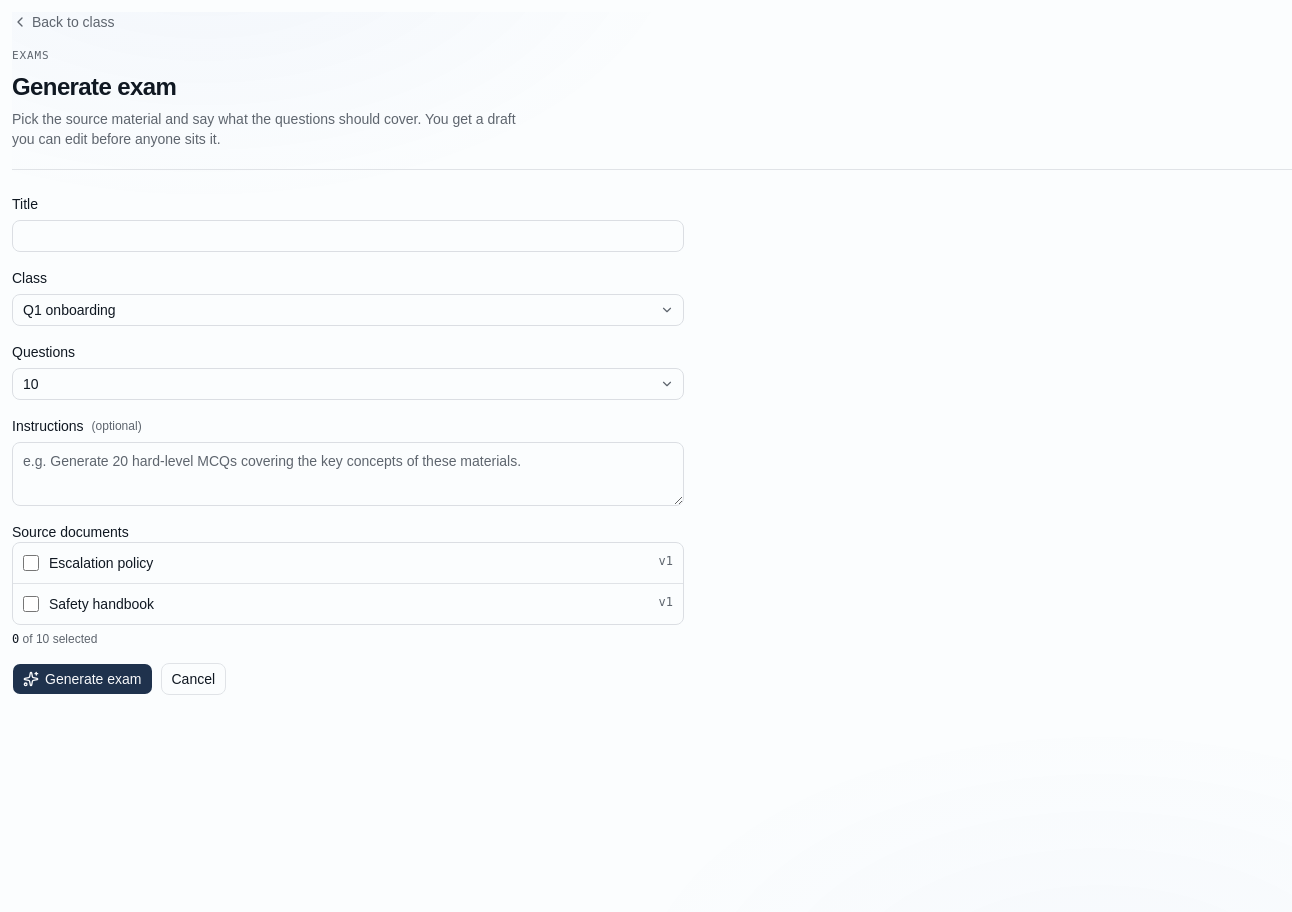
Scenario: GenerateExamPage › rejects a custom count the server would reject
Expected: the checkbox labelled "Escalation policy" is shown, [23,554,39,570]
Type "Week 1 check" into the field labelled "Title".
click(348, 236); type("Week 1 check")  # box [12,220,684,252]
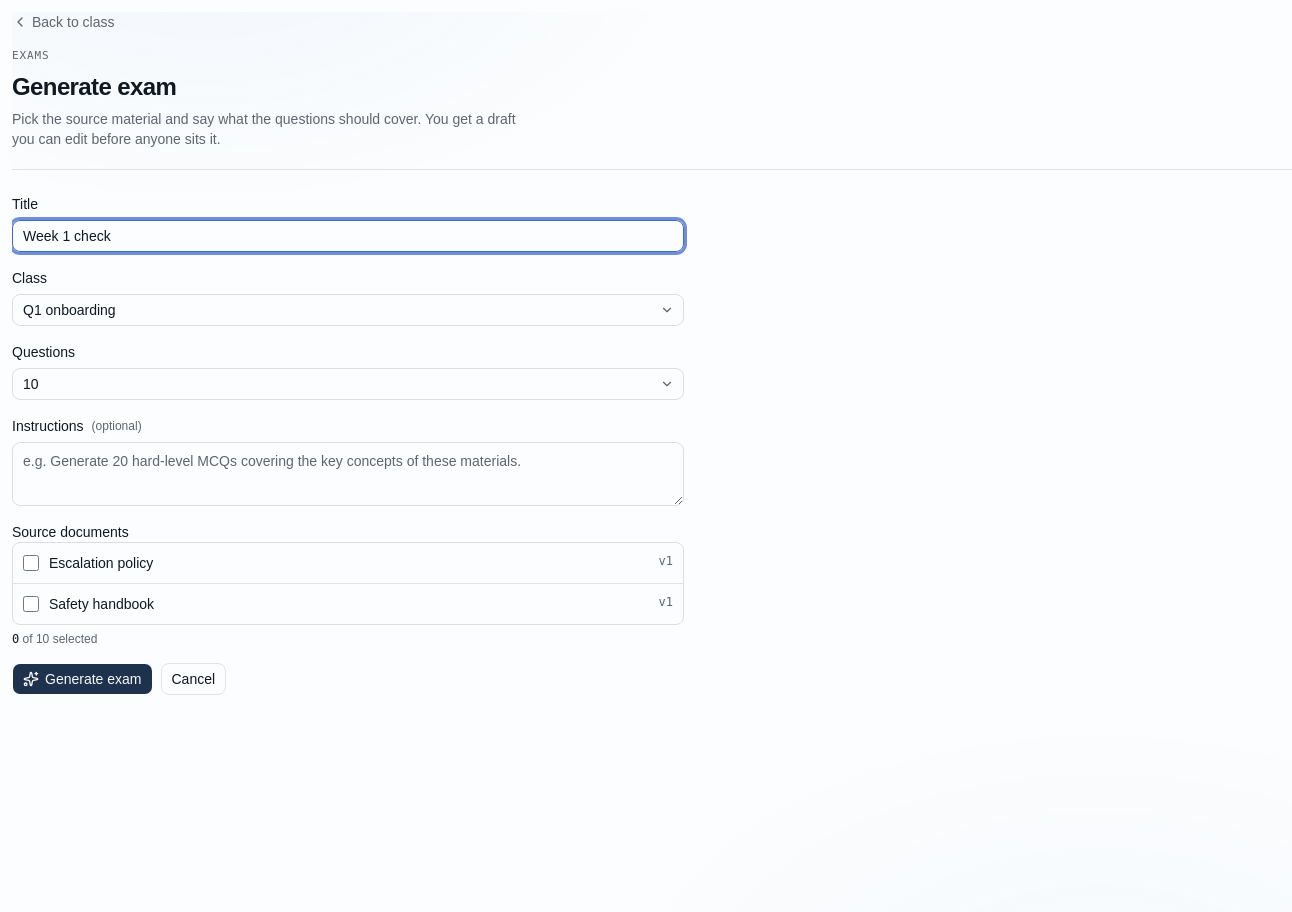
Click the checkbox labelled "Escalation policy".
click(31, 562)  # box [23,554,39,570]
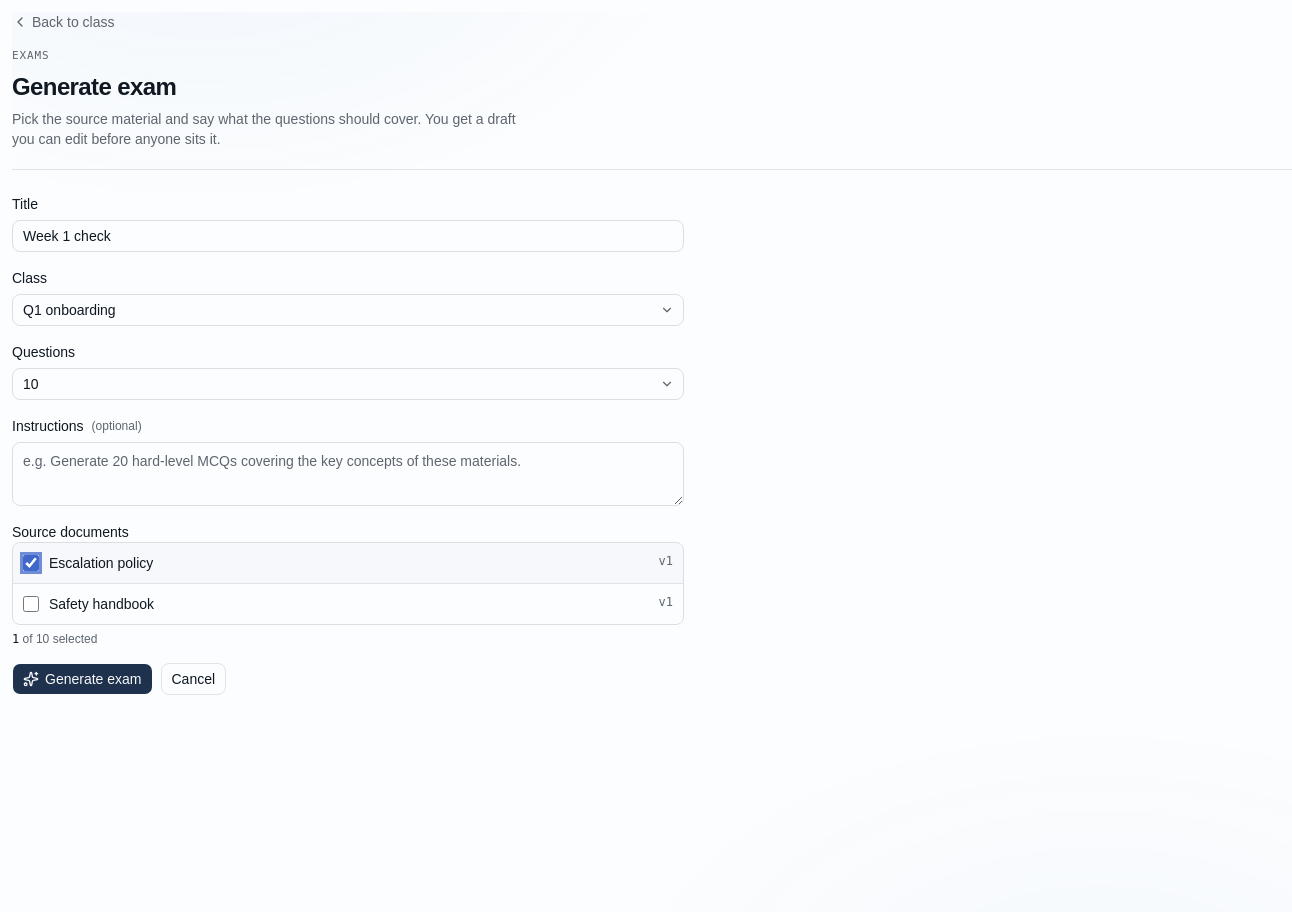
Type "Cover the sign-offs." into the text box labelled "Instructions (optional)".
click(348, 474); type("Cover the sign-offs.")  # box [12,442,684,506]
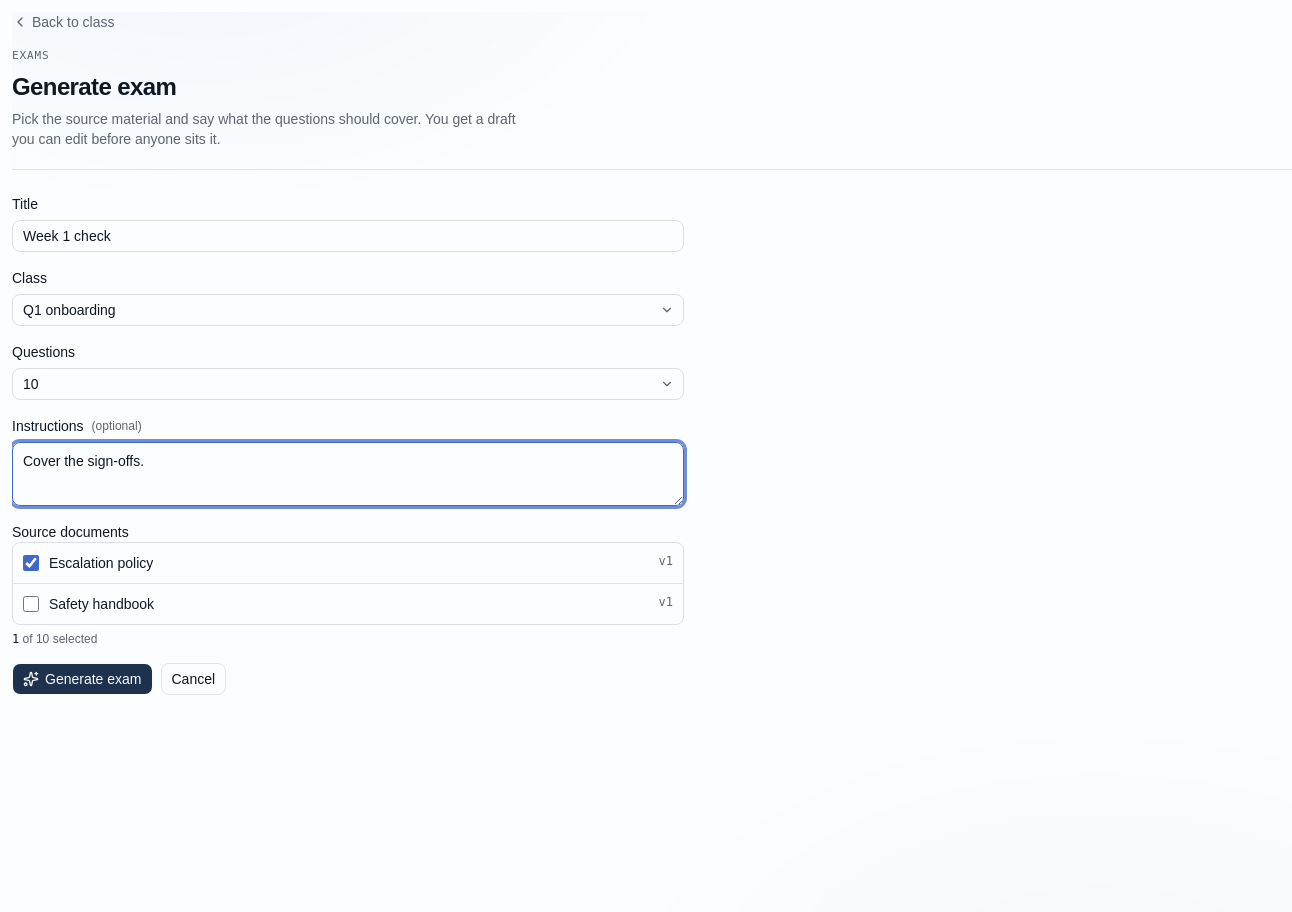
Select "Custom…" in the dropdown labelled "Questions" at (348, 384), box [12,368,684,400]
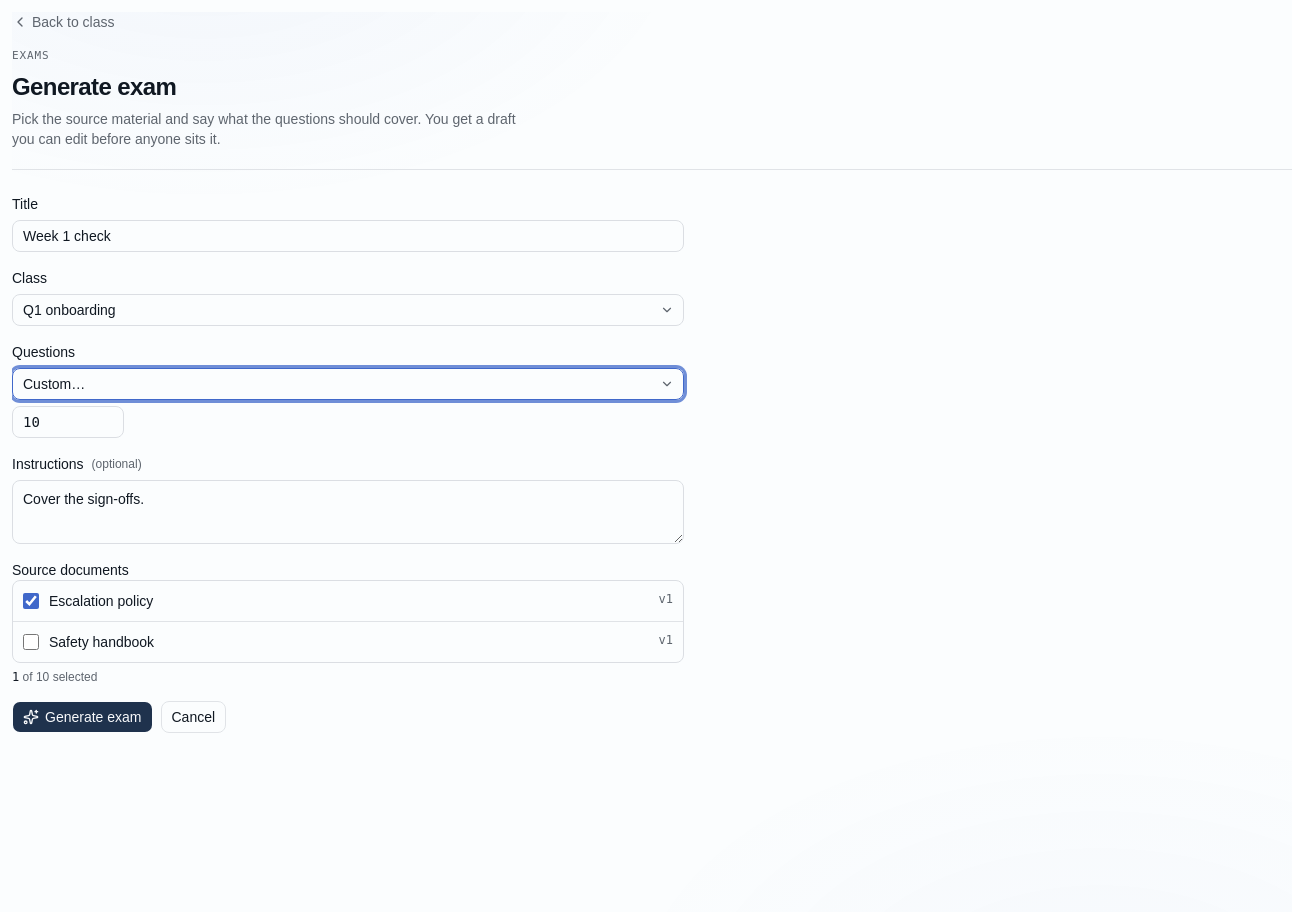
Replace the text in the number field named "Number of questions" with "80" at (68, 422), box [12,406,124,438]
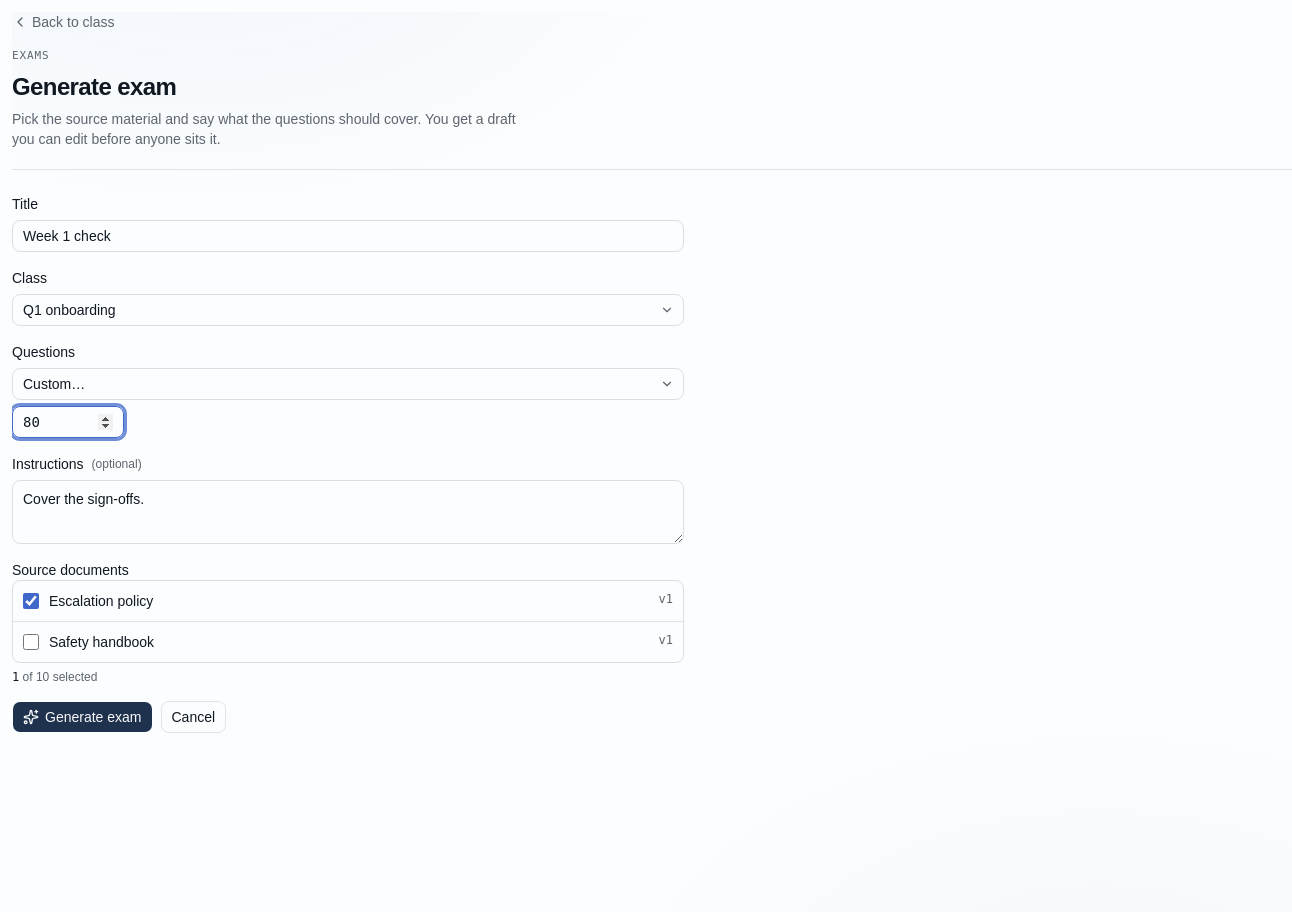
Click the button "Generate exam".
click(82, 716)  # box [12,700,152,732]
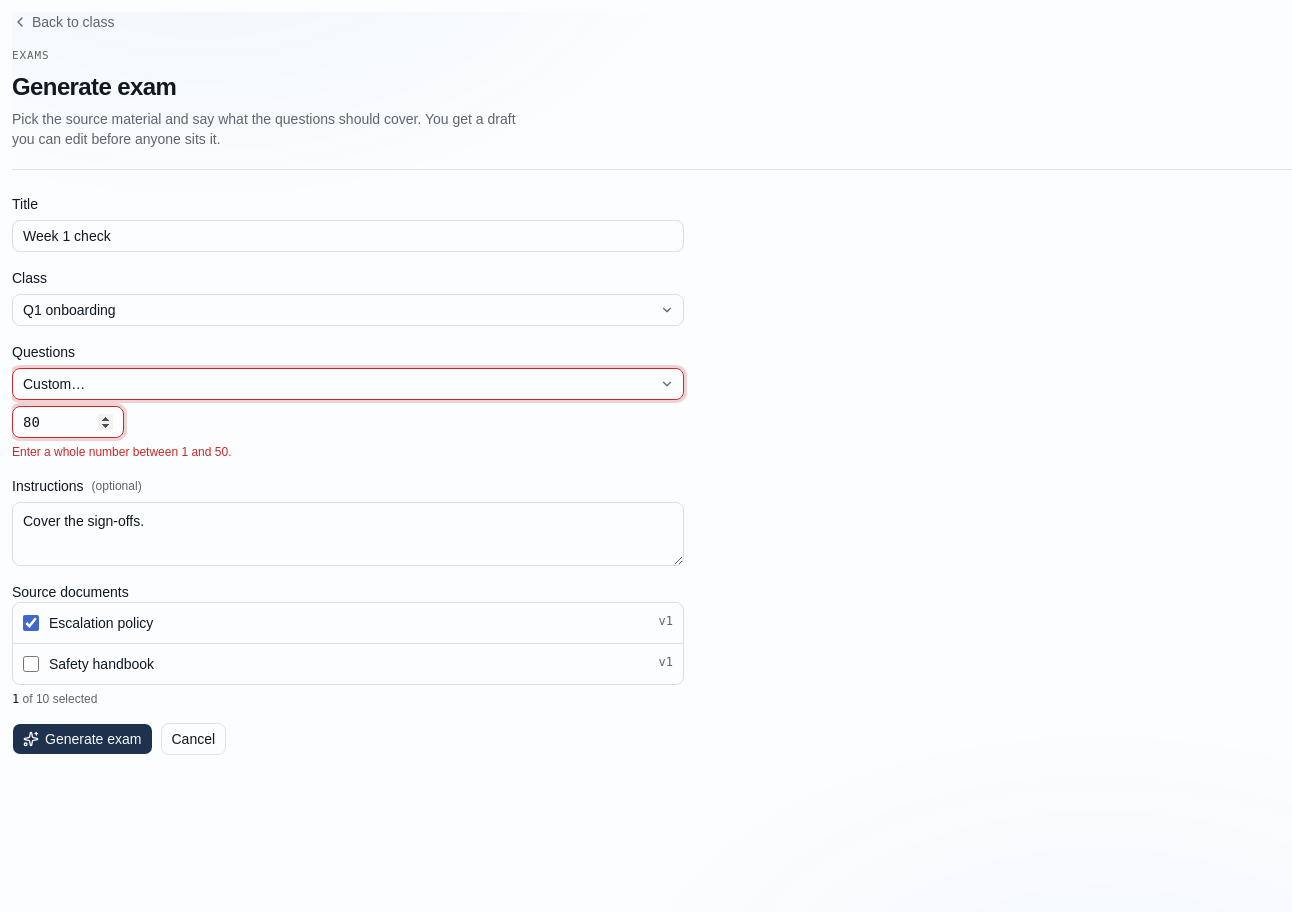
Expected: the text "Enter a whole number between 1 and 50." is shown, [12,444,232,458]
